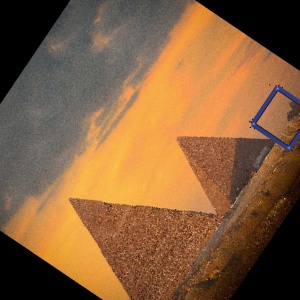square: (249, 84, 300, 151)
